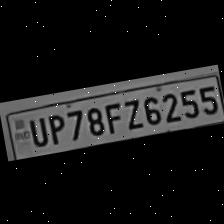2: (156, 87, 181, 123)
5: (194, 81, 220, 116), (175, 84, 199, 118)
6: (138, 91, 162, 126)
7: (60, 105, 85, 141)
8: (80, 102, 106, 137)
F: (100, 97, 123, 133)
P: (42, 109, 66, 145)
U: (24, 113, 48, 146)
Z: (118, 94, 142, 130)
